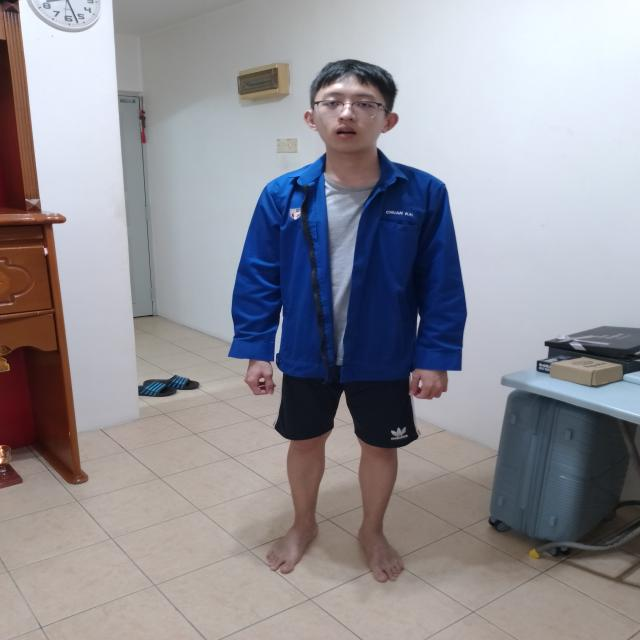person_with_labcoat: (229, 60, 466, 581)
